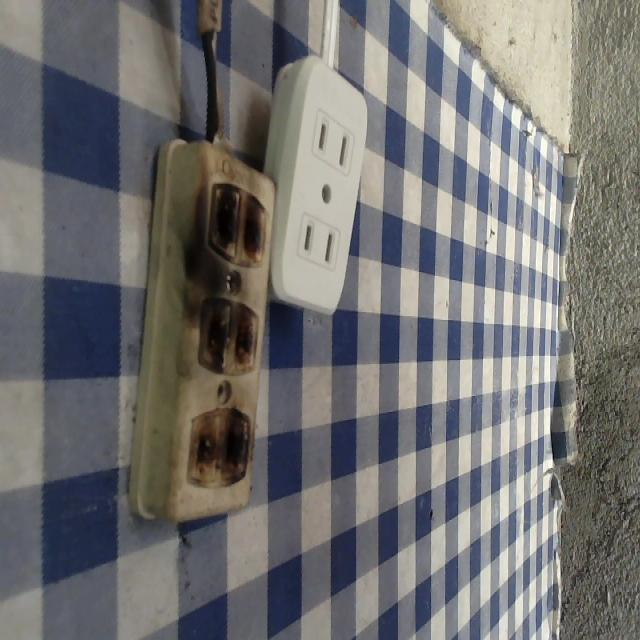-: (185, 401, 253, 500), (207, 179, 271, 276), (195, 297, 265, 383)
